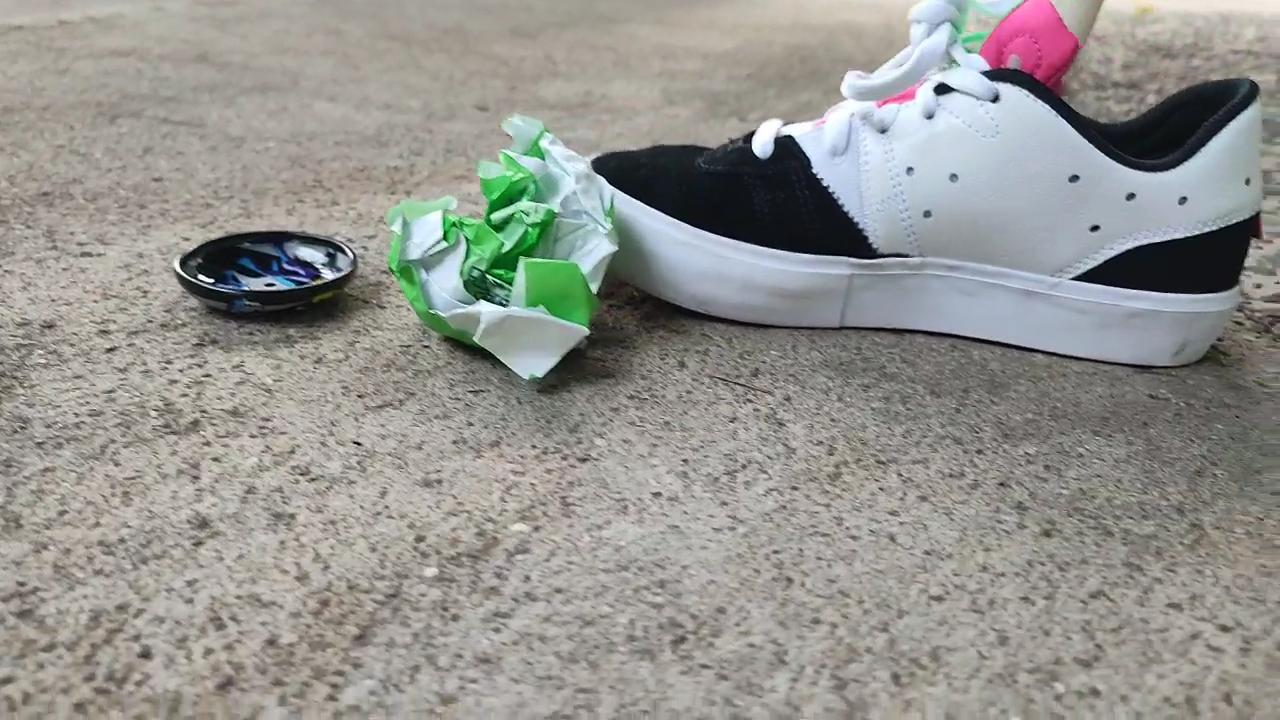Paper: (377, 92, 624, 380)
